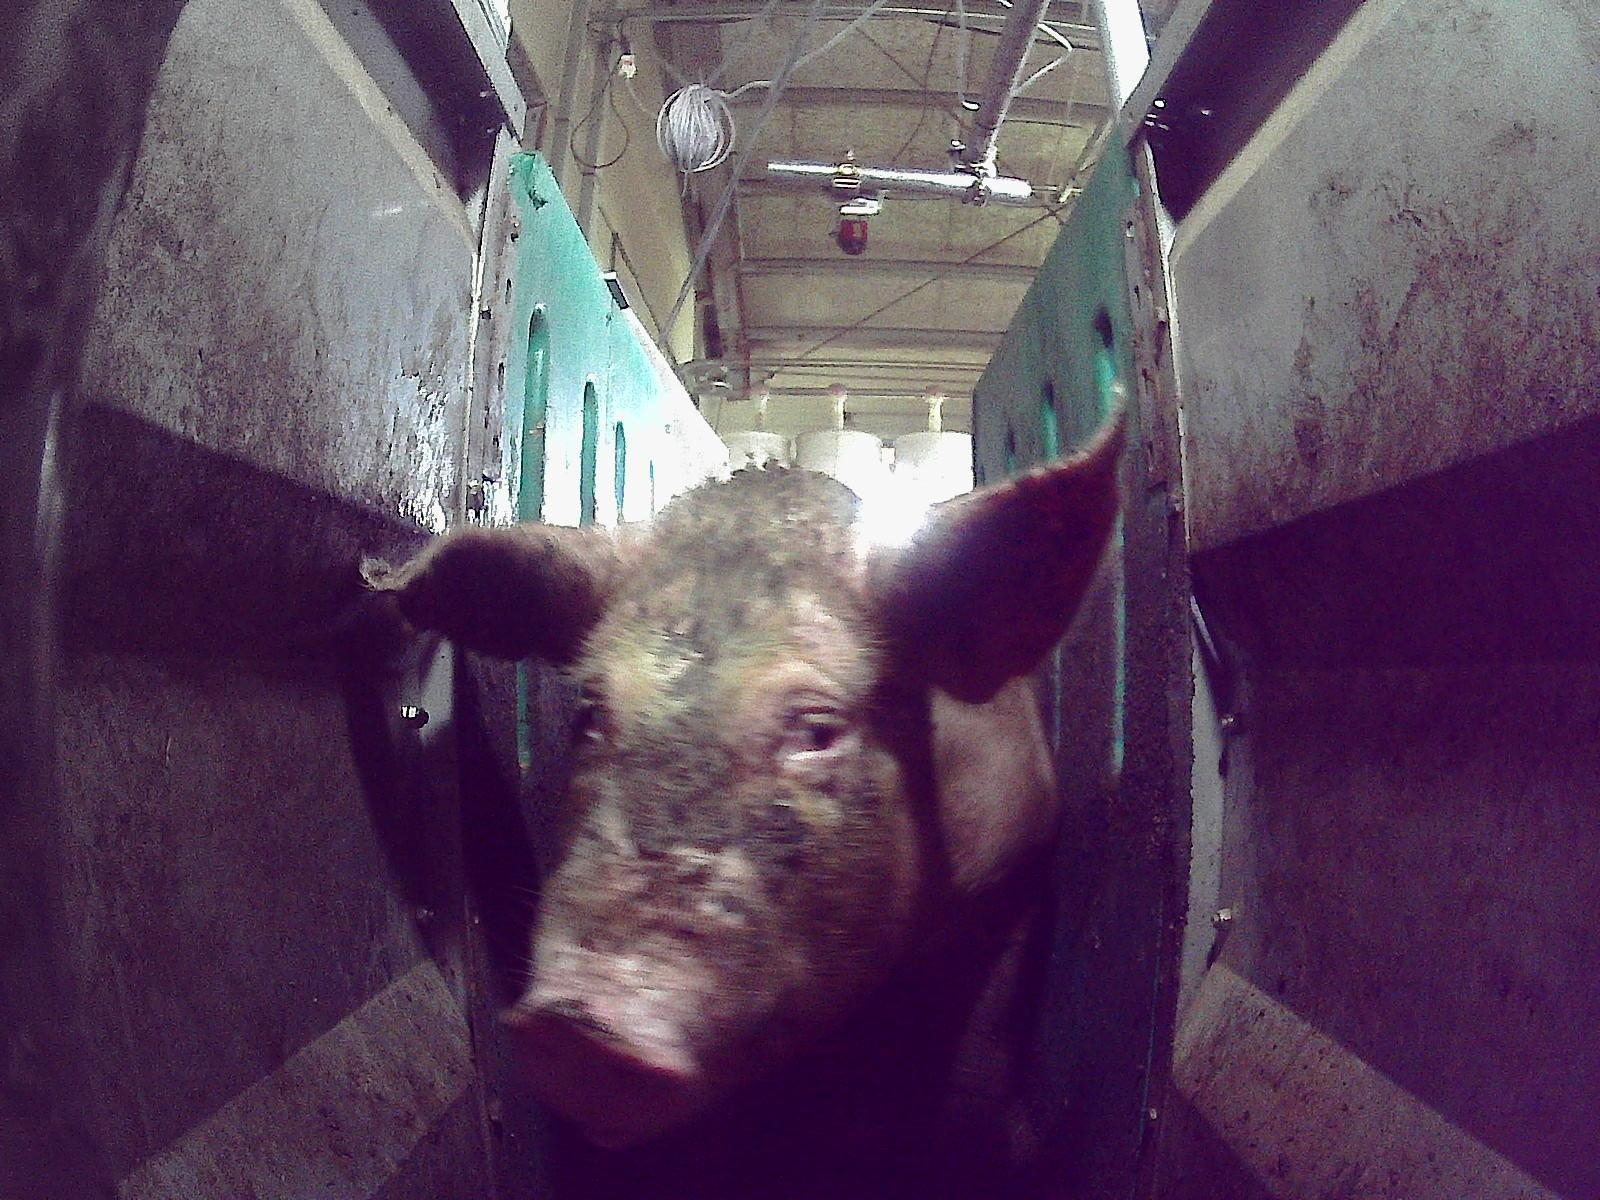Face: (495, 518, 958, 1151)
